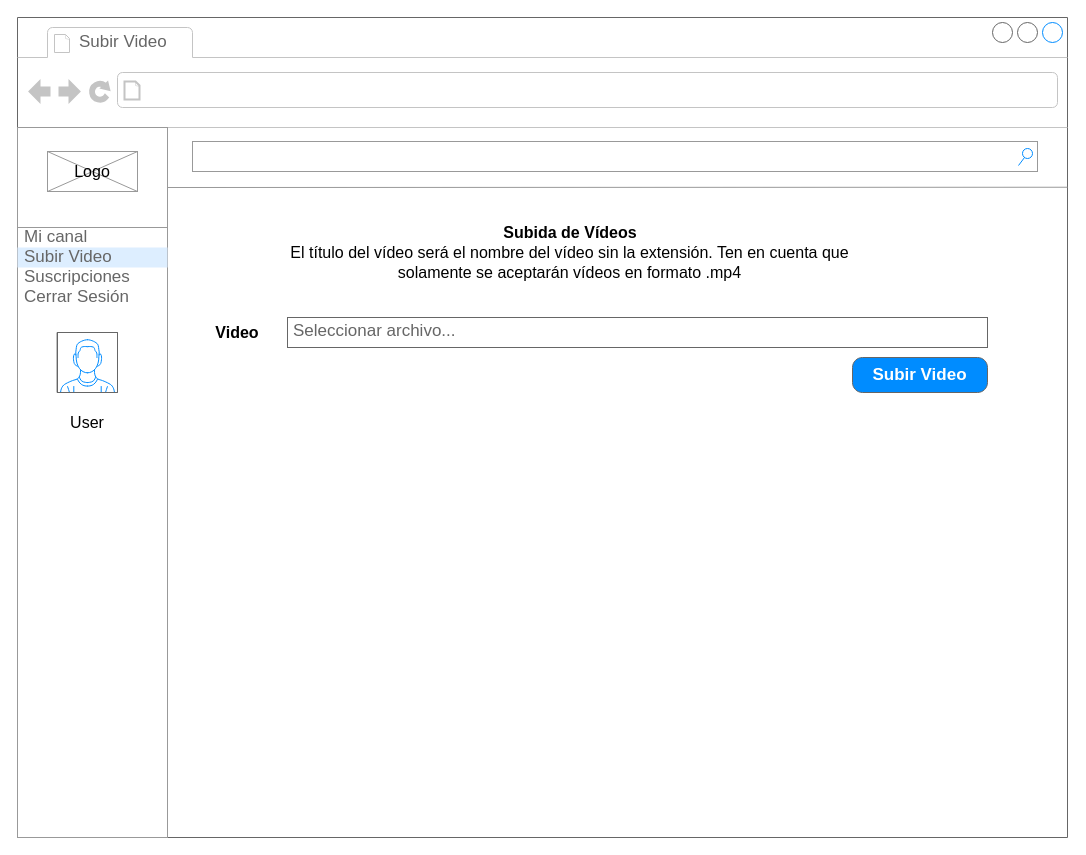
This 1086x855 diagram has some shape labels left out. Here are the shapes that lost their labels. From the top down, the centre of each, then its label:
At (x=272, y=90): "https://www.tube.com".
At (x=615, y=156): "Search".
